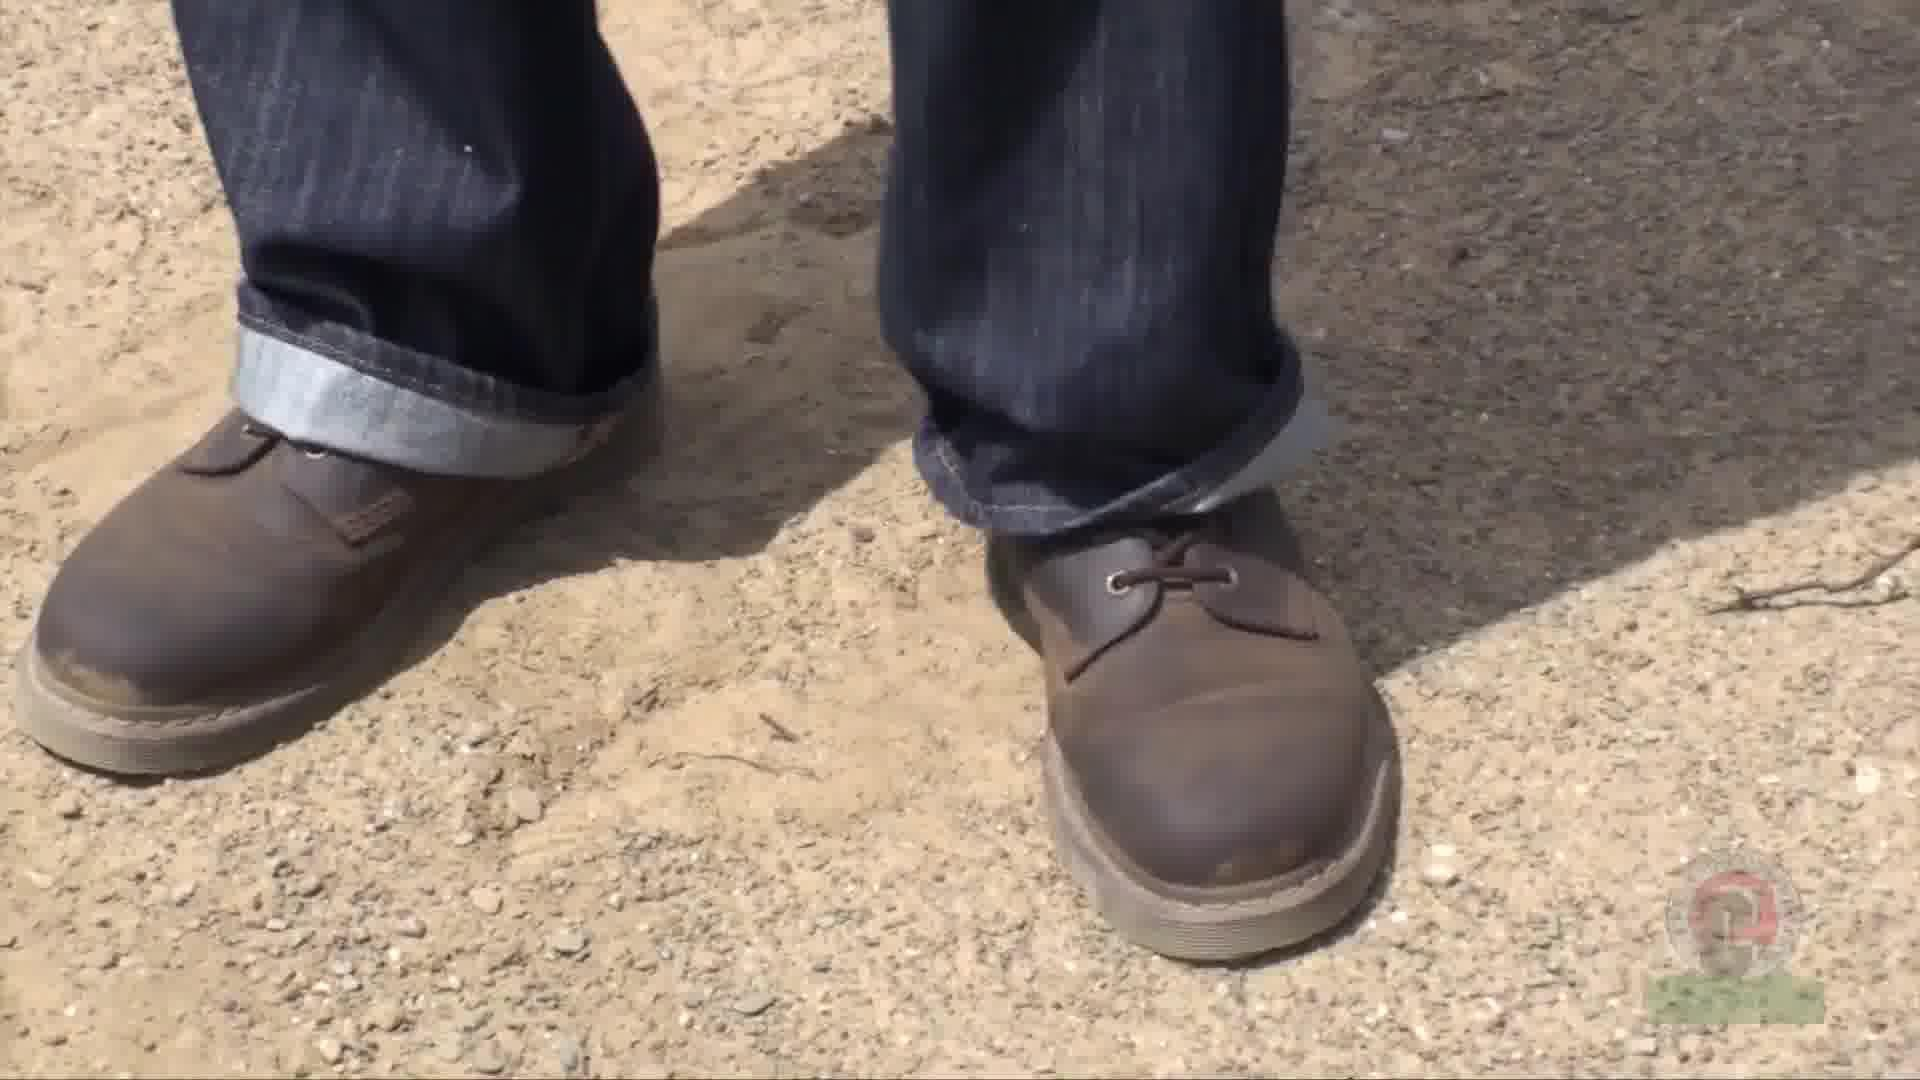safety boot: (4, 280, 1420, 1077)
